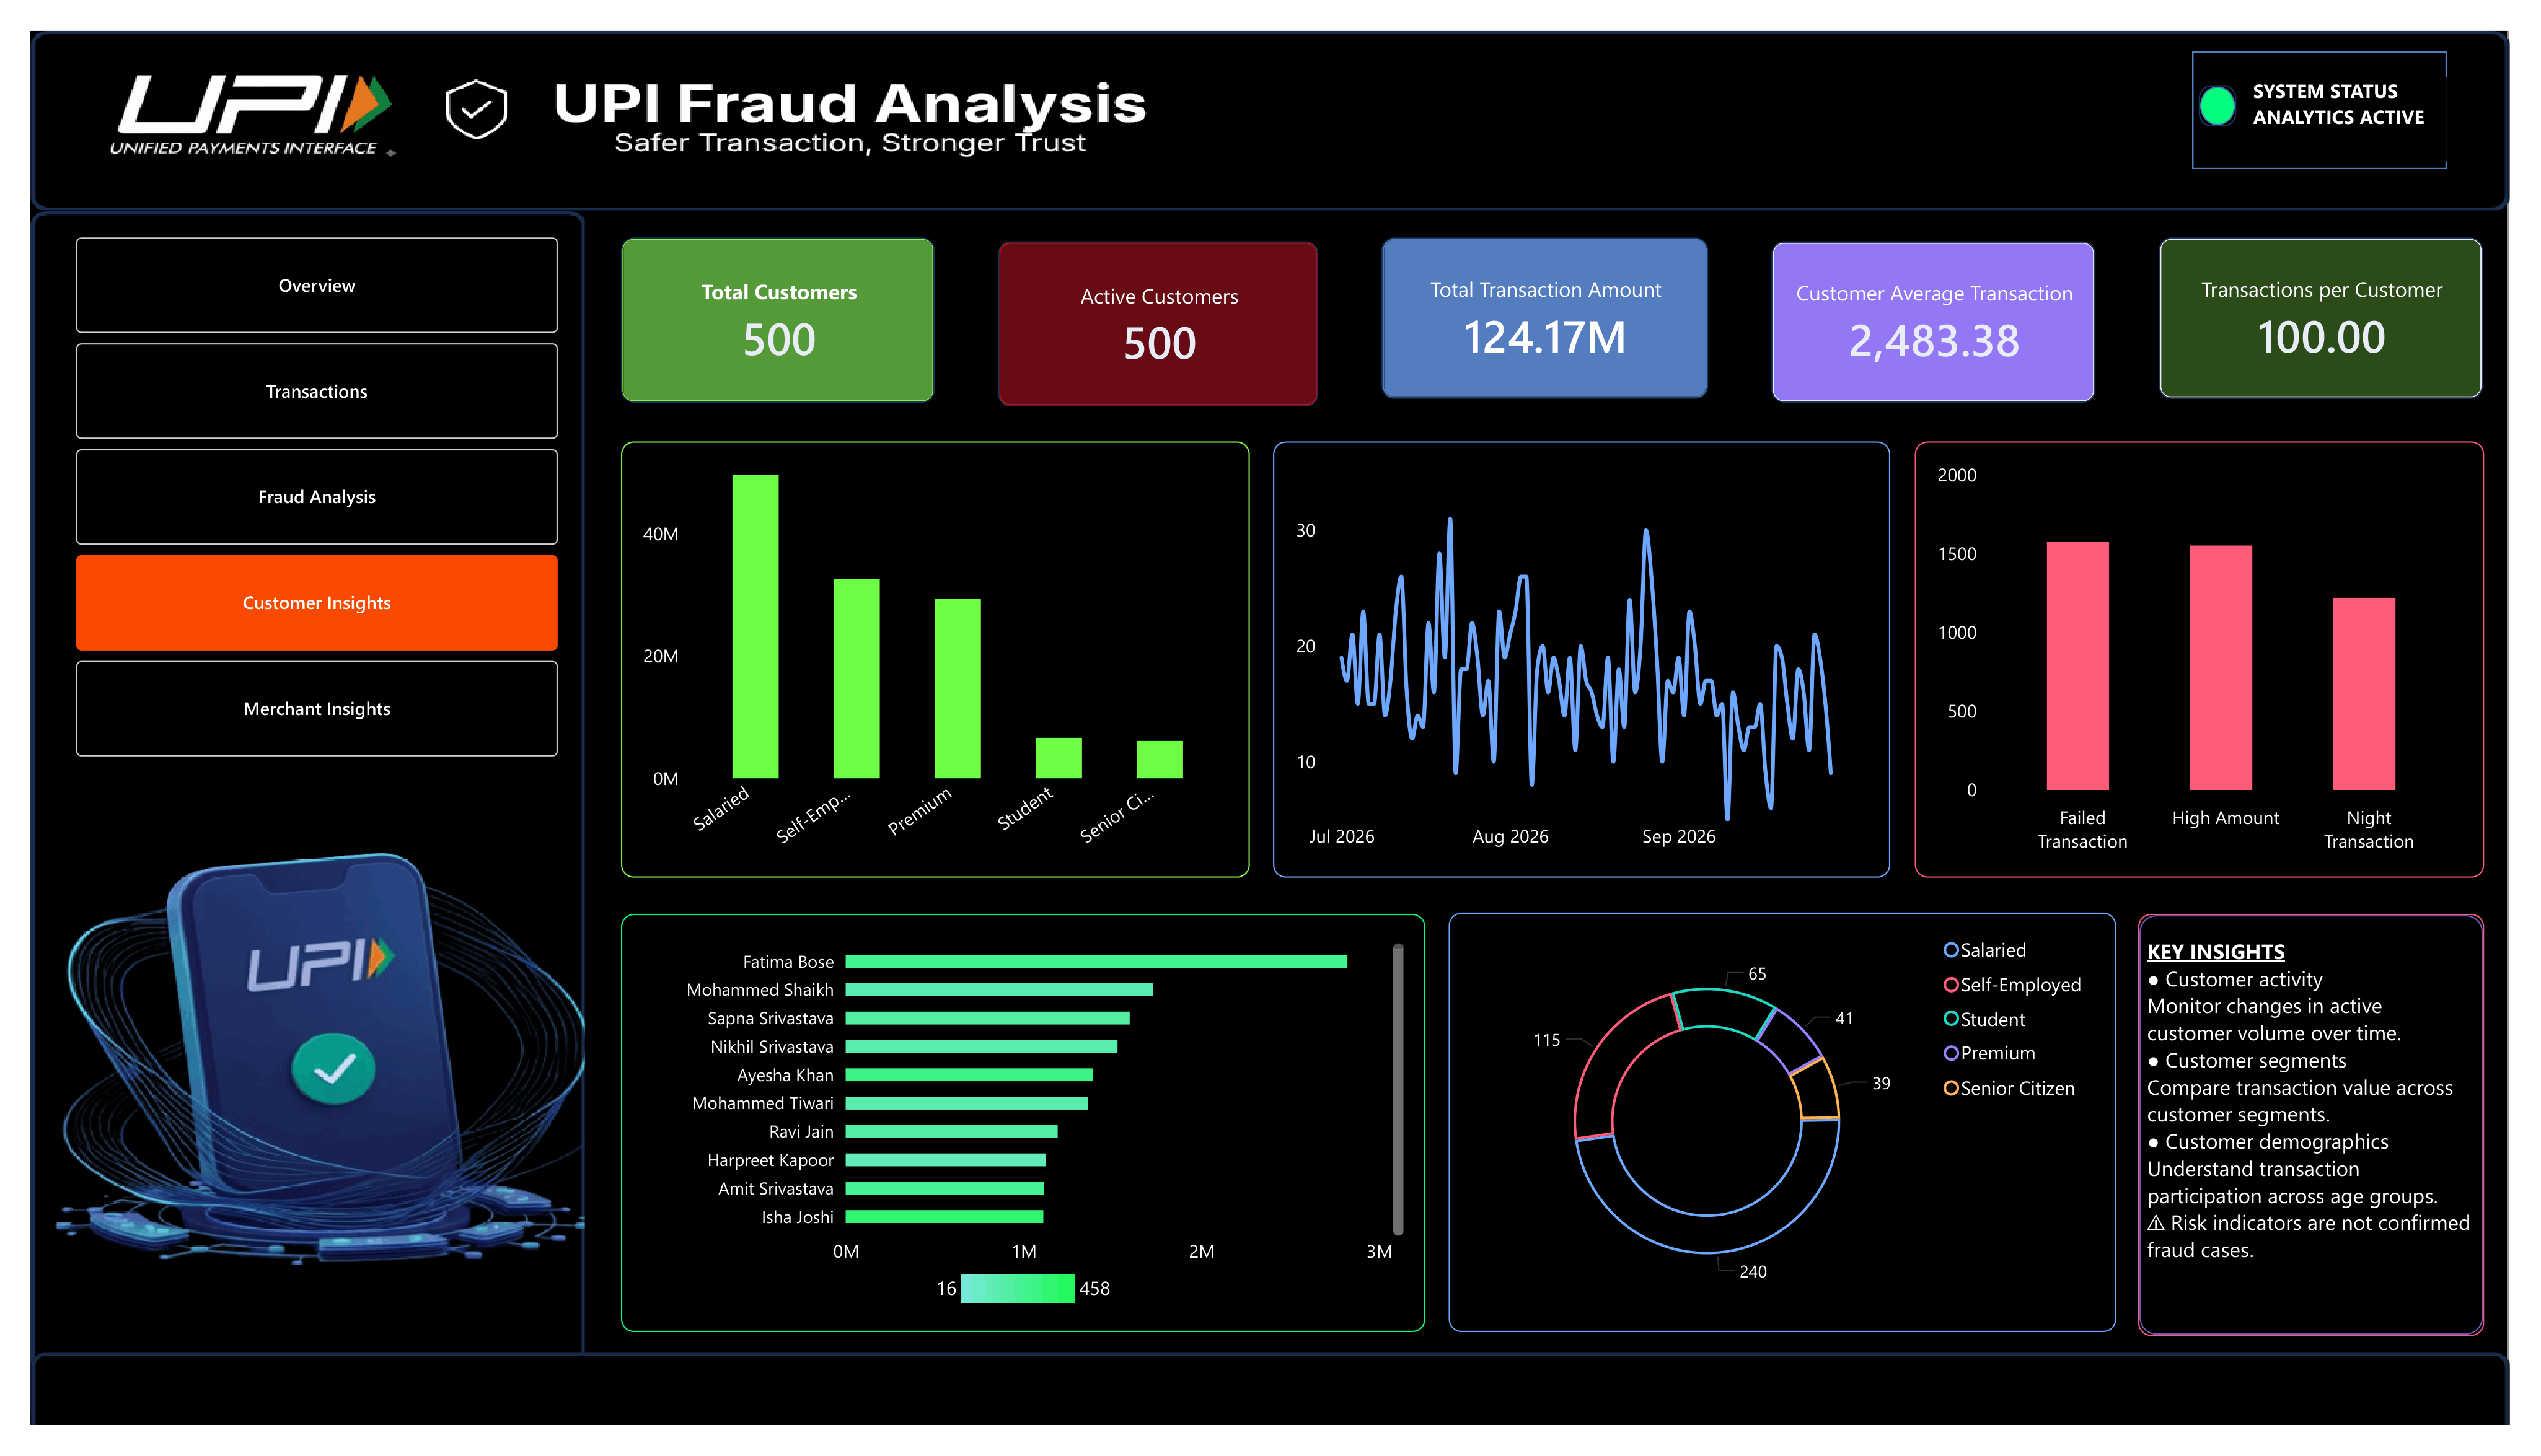

The page's visual inventory and layout, read from the dashboard file:
{"tool":"powerbi","page":{"name":"Customer Insights","canvas":[1920,1080],"ordinal":3},"visuals":[{"type":"cardVisual","fields":{"Data":["Customers.Total Customers"]},"box":[456.5,160.2,242.9,128.1],"z":0,"group":"g1"},{"type":"clusteredBarChart","fields":{"Category":["Customers.CustomerName"],"Y":["Customers.Customer Transaction Value"]},"box":[456.6,683.9,623.3,324.6],"z":0},{"type":"cardVisual","fields":{"Data":["Customers.Active Customers"]},"box":[748.2,162.9,248.3,128.1],"z":1000,"group":"g1"},{"type":"clusteredColumnChart","fields":{"Category":["Customers.CustomerSegment"],"Y":["Customers.Customer Transaction Value"]},"box":[456.6,318.1,486.9,337.6],"z":1000},{"type":"cardVisual","fields":{"Data":["Customers.Customer Average Transaction"]},"box":[1347.5,162.9,250.9,125.5],"z":2000,"group":"g1"},{"type":"lineChart","fields":{"Category":["Transactions.TransactionDate.Variation.Date Hierarchy.Year","Transactions.TransactionDate.Variation.Date Hierarchy.Quarter","Transactions.TransactionDate.Variation.Date Hierarchy.Month","Transactions.TransactionDate.Variation.Date Hierarchy.Day"],"Y":["Customers.High Amount Transactions"]},"box":[962,318.1,478.3,337.6],"z":2000},{"type":"cardVisual","fields":{"Data":["Customers.Total Transaction Amount"]},"box":[1045.2,160.2,253.6,125.5],"z":3000,"group":"g1"},{"type":"clusteredColumnChart","fields":{"Category":["Risk Indicators.Risk Indicator"],"Y":["Risk Indicators.Risk Indicator Count 2"]},"box":[1458.6,318.1,441.5,337.6],"z":3000},{"type":"cardVisual","fields":{"Data":["Customers.Transactions per Customer"]},"box":[1647.2,160.2,250.9,125.5],"z":4000,"group":"g1"},{"type":"shape","box":[1631.8,683.9,268.4,326.8],"z":4000},{"type":"pageNavigator","box":[34.7,160.2,373.8,402],"z":5000},{"type":"textbox","box":[1639.2,702.1,250.9,288.3],"z":6000},{"type":"group","id":"g1","title":"Group 1","box":[456.5,160.2,1441.6,130.8],"z":7000},{"type":"donutChart","fields":{"Category":["Customers.CustomerSegment"],"Y":["Customers.Total Customers"]},"box":[1097.5,682.5,517.5,325],"z":8000},{"type":"shape","box":[1673.9,16.3,197.3,90.5],"z":8001},{"type":"textbox","box":[1721,36.2,150.2,65.1],"z":8002},{"type":"shape","box":[1679.4,41.6,29,32.6],"z":8003}]}

Visuals, with their boxes on the page's 1920x1080 design canvas (x1, y1, x2, y2). These are canvas units, not pixel positions in the 2541x1456 screenshot, which may show the page scaled, cropped or inside an application window:
cardVisual - Customers.Total Customers: [456, 160, 699, 288]
clusteredBarChart - Customers.CustomerName x Customers.Customer Transaction Value: [457, 684, 1080, 1008]
cardVisual - Customers.Active Customers: [748, 163, 996, 291]
clusteredColumnChart - Customers.CustomerSegment x Customers.Customer Transaction Value: [457, 318, 944, 656]
cardVisual - Customers.Customer Average Transaction: [1348, 163, 1598, 288]
lineChart - Transactions.TransactionDate.Variation.Date Hierarchy.Year x Transactions.TransactionDate.Variation.Date Hierarchy.Quarter: [962, 318, 1440, 656]
cardVisual - Customers.Total Transaction Amount: [1045, 160, 1299, 286]
clusteredColumnChart - Risk Indicators.Risk Indicator x Risk Indicators.Risk Indicator Count 2: [1459, 318, 1900, 656]
cardVisual - Customers.Transactions per Customer: [1647, 160, 1898, 286]
shape: [1632, 684, 1900, 1011]
pageNavigator: [35, 160, 408, 562]
textbox: [1639, 702, 1890, 990]
"Group 1" group: [456, 160, 1898, 291]
donutChart - Customers.CustomerSegment x Customers.Total Customers: [1098, 682, 1615, 1008]
shape: [1674, 16, 1871, 107]
textbox: [1721, 36, 1871, 101]
shape: [1679, 42, 1708, 74]
